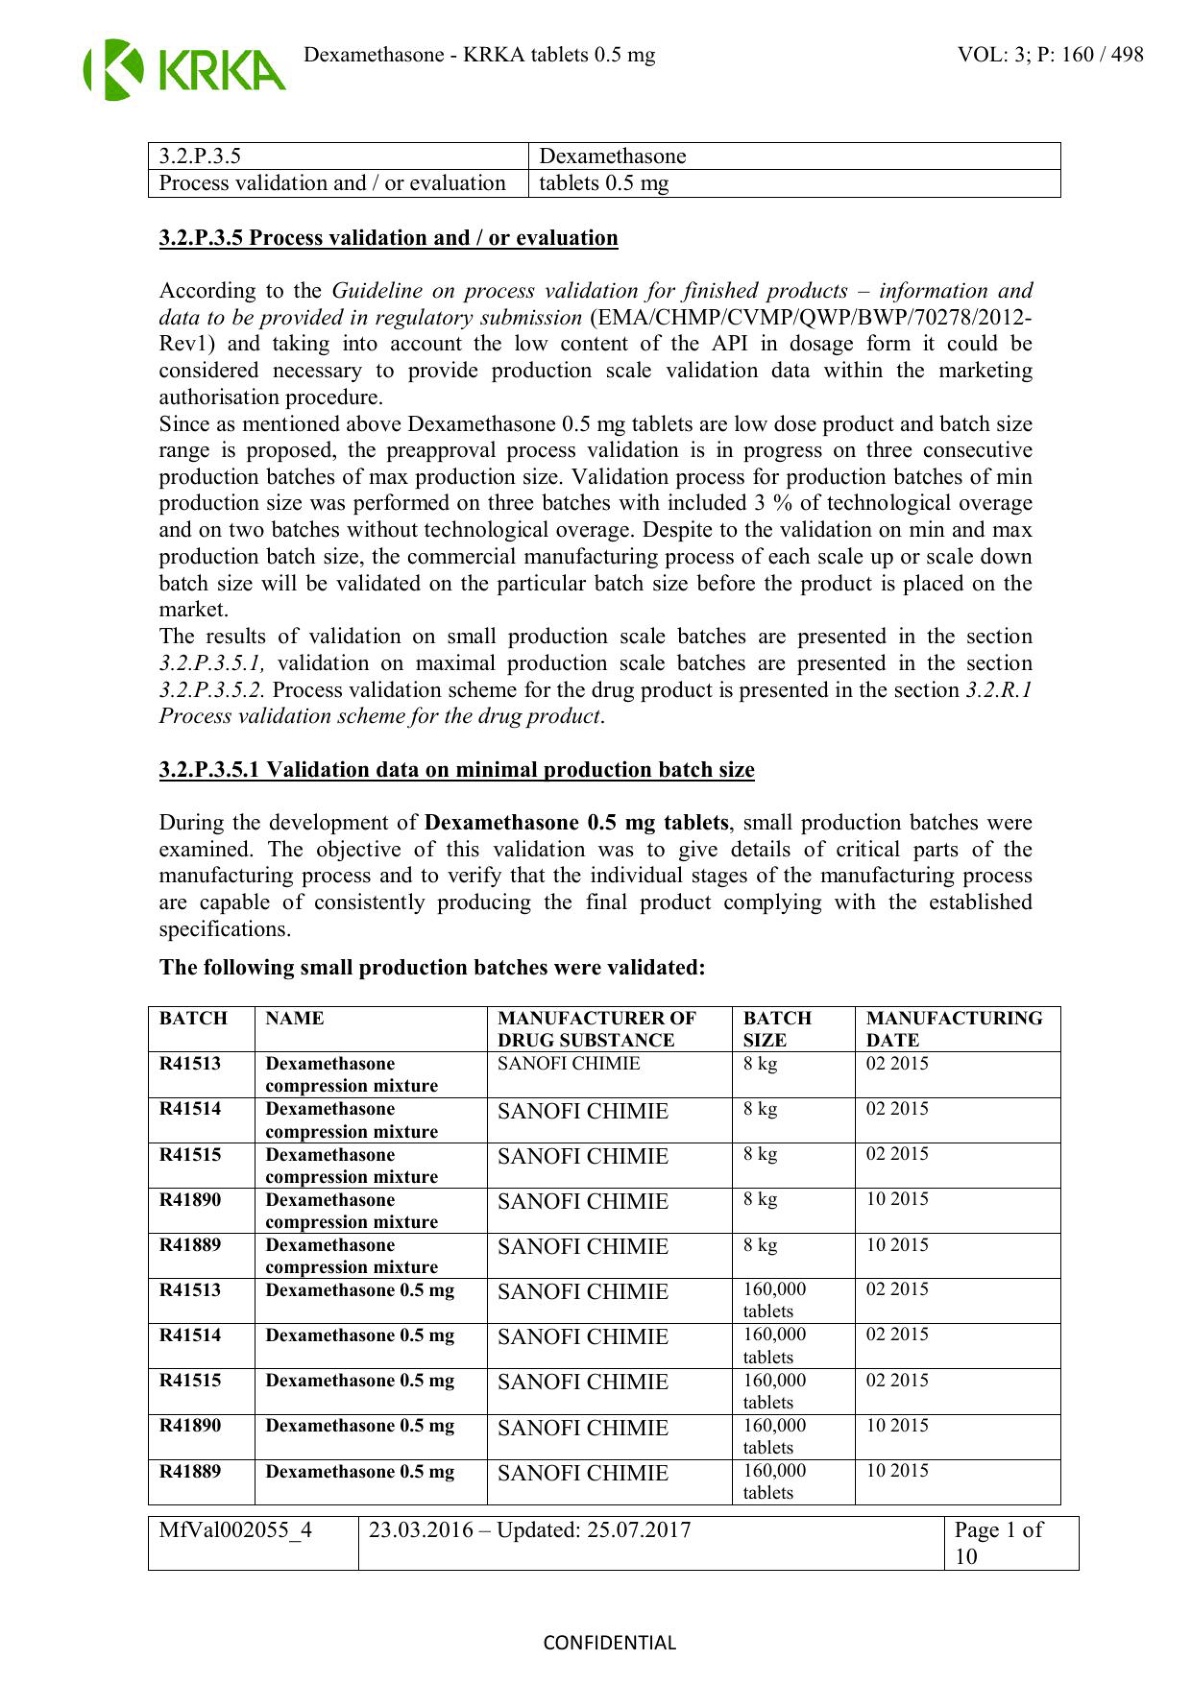full_lined: (147, 1004, 1062, 1505), (146, 1515, 1078, 1572), (146, 142, 1060, 199)
